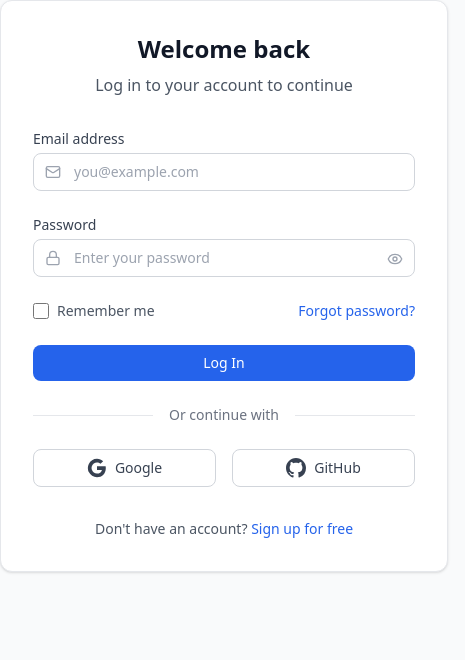
Test: LoginPage › shows error message on failed login
The image size is (465, 660).
Type "test@example.com" into the field labelled "Email address" at {"x": 224, "y": 172}, box [33,153,415,191]
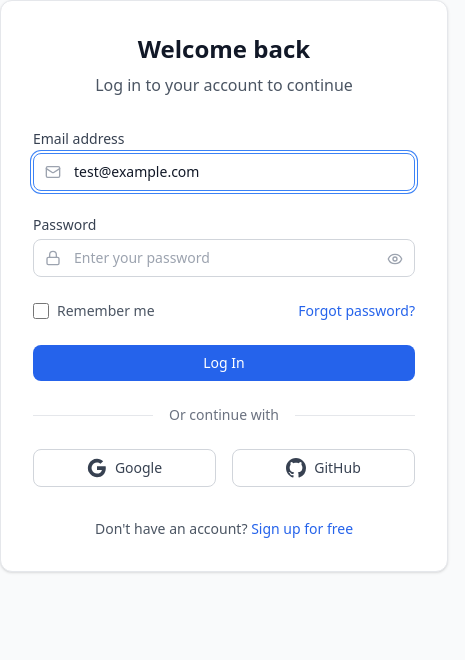
Type "wrongpassword" into the password field labelled "Password" at {"x": 224, "y": 258}, box [33,239,415,277]
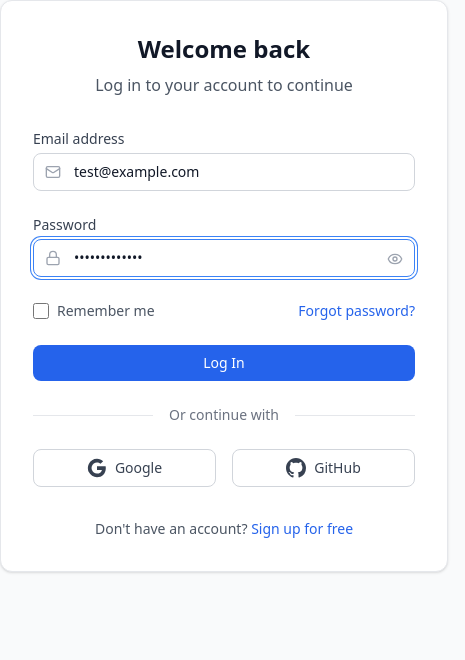
Click the button "Log In" at {"x": 224, "y": 363}, box [33,345,415,381]
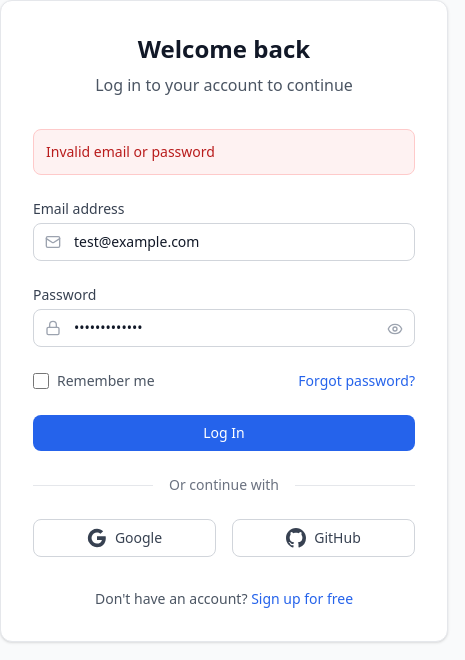
Expected: the text "Invalid email or password" is shown, [33,129,415,175]
